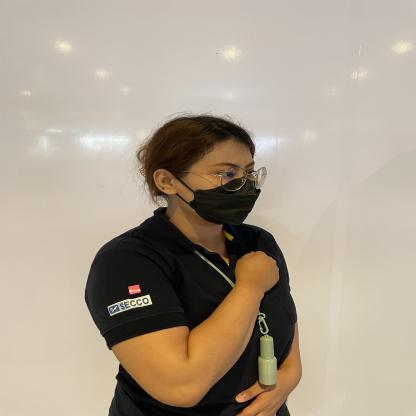Sadness: (187, 243, 304, 334)
